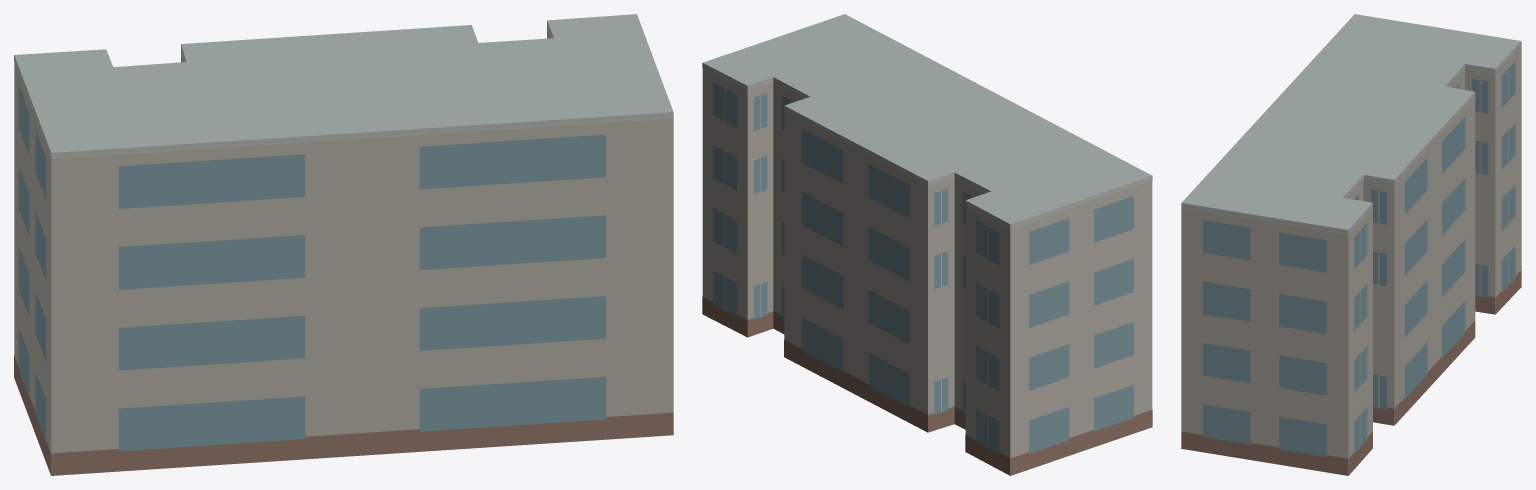
The model's file is survey-upis-32873588.glb.
3 renders of one model, left to right at view 1: azimuth 30°, elevation 25°; view 2: azimuth 150°, elevation 25°; view 3: azimuth 270°, elevation 25°, orthographic. The views are drawn at different scales.
Visible parts, largest first — view 1: survey-upis-32873588.tmp; view 2: survey-upis-32873588.tmp; view 3: survey-upis-32873588.tmp.
Part boxes in pixels (x1,y1,x2,y2): survey-upis-32873588.tmp: (14, 14, 673, 475); survey-upis-32873588.tmp: (702, 14, 1152, 475); survey-upis-32873588.tmp: (1181, 14, 1521, 475).
Size of the model in its own units: 23 by 12.2 by 15.31.
